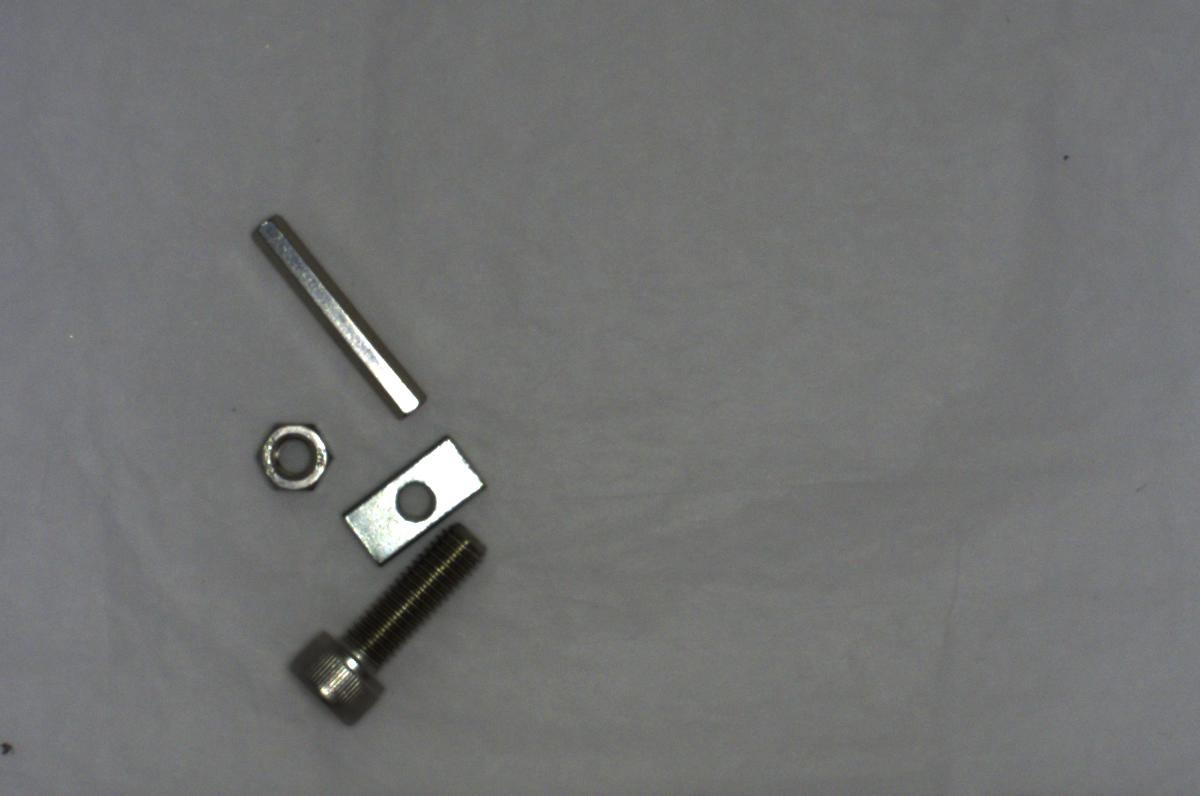Double hexagonal column: (252, 210, 418, 416)
Hexagon nut: (246, 416, 340, 500)
Hexagon screw: (284, 525, 485, 725)
Rectangular nut: (341, 434, 488, 560)
